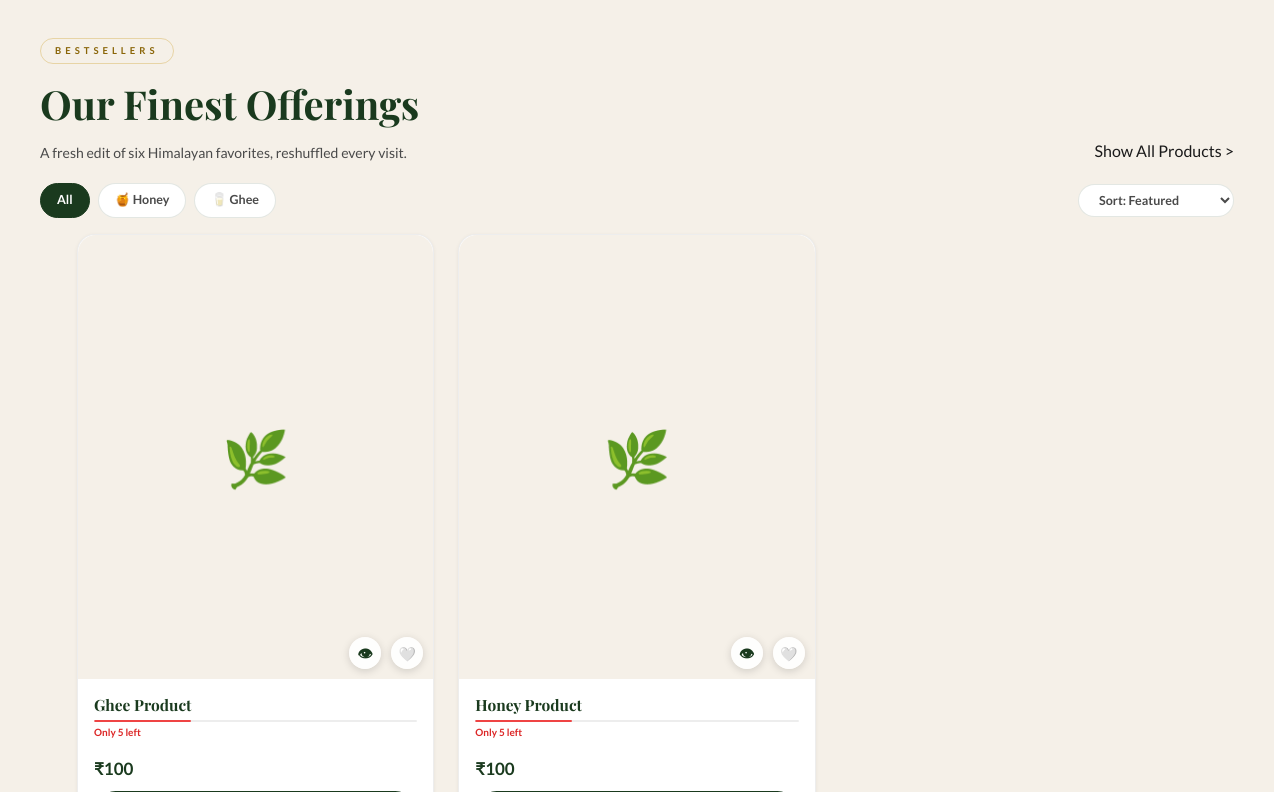
Test: BestSellersClient › filters to a category when its chip is clicked
Click the button "🍯 Honey": (142, 201) [98,183,186,218]
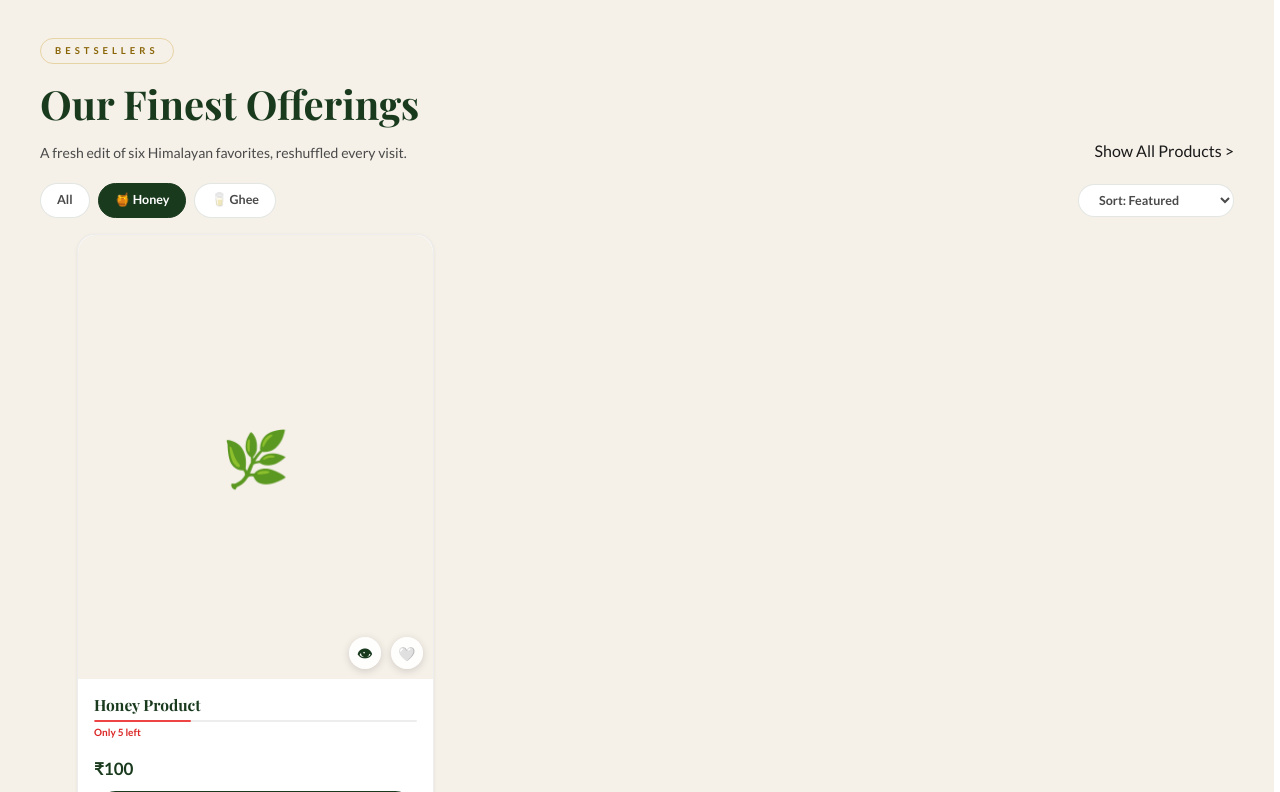
Expected: the text "Honey Product" is shown, [94,694,201,715]
Now the text "Ghee Product" is gone
